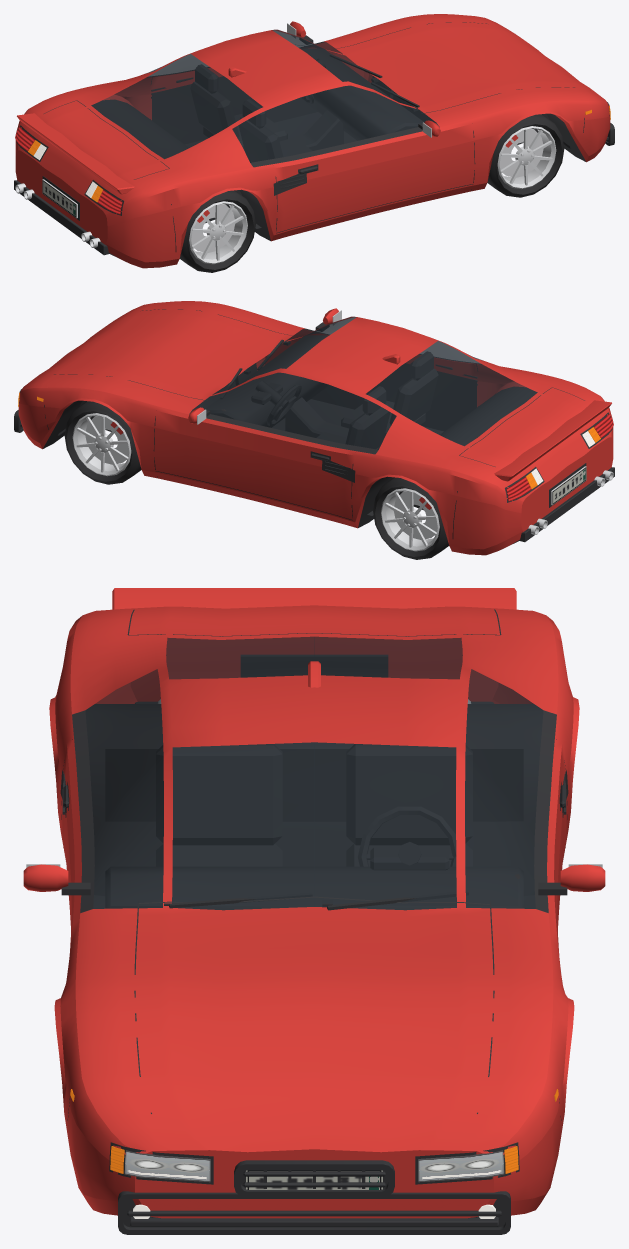
The model's file is car_sports.glb.
3 views of the same model, one above another, from view 1: azimuth 30°, elevation 25°; view 2: azimuth 150°, elevation 25°; view 3: azimuth 270°, elevation 25° (orthographic). The views are drawn at different scales.
Parts seen in each view (by area): view 1: Body, Wheel_FR, Wheel_RR; view 2: Body, Wheel_FL, Wheel_RL; view 3: Body.
Part boxes in pixels (bbox=[...]): Body: bbox=[14, 14, 614, 268]; Wheel_FR: bbox=[487, 114, 564, 197]; Wheel_RR: bbox=[179, 190, 255, 272]; Body: bbox=[14, 301, 614, 555]; Wheel_FL: bbox=[64, 401, 141, 484]; Wheel_RL: bbox=[373, 477, 449, 559]; Body: bbox=[23, 588, 605, 1234].
Bounding box in the file's own units: 4.5 × 1.22 × 2.21.
Materials: 7 (3 with a texture image).
